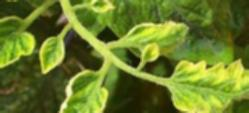Tomato leaf yellow virus: (161, 54, 249, 113), (117, 14, 190, 59), (53, 69, 113, 113), (0, 12, 40, 75), (40, 33, 67, 76)
